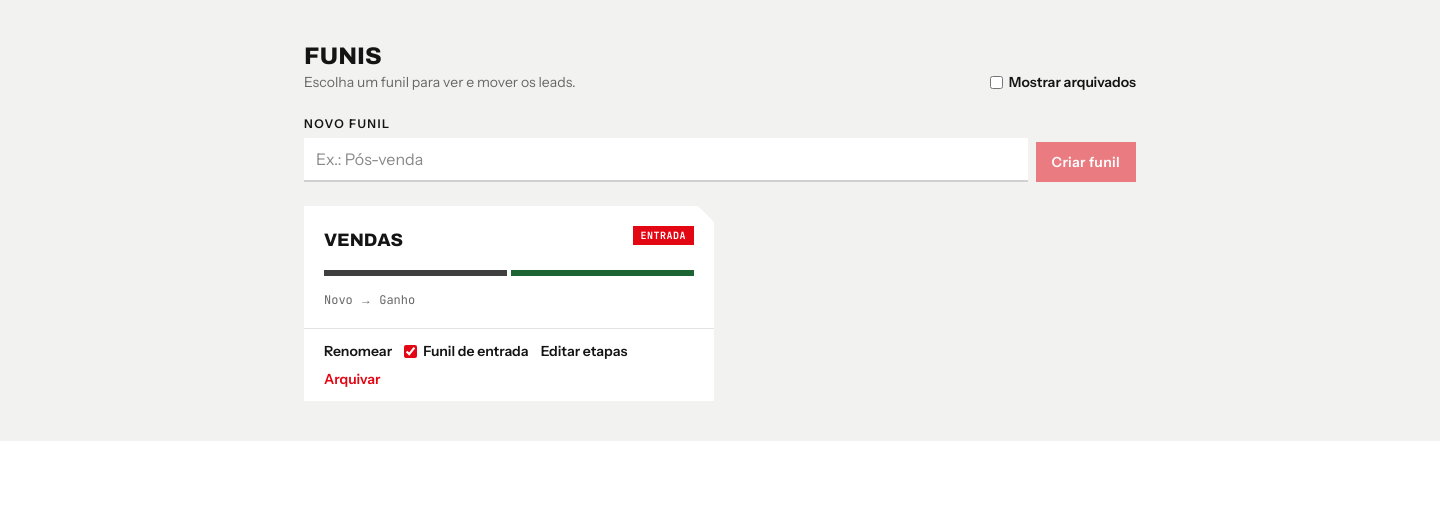
Test: Funis page › lets an admin create a pipeline and see a name conflict
This screenshot has width=1440, height=518.
Type "vendas" into the field labelled "Novo funil".
click(666, 160); type("vendas")  # box [304,138,1028,182]
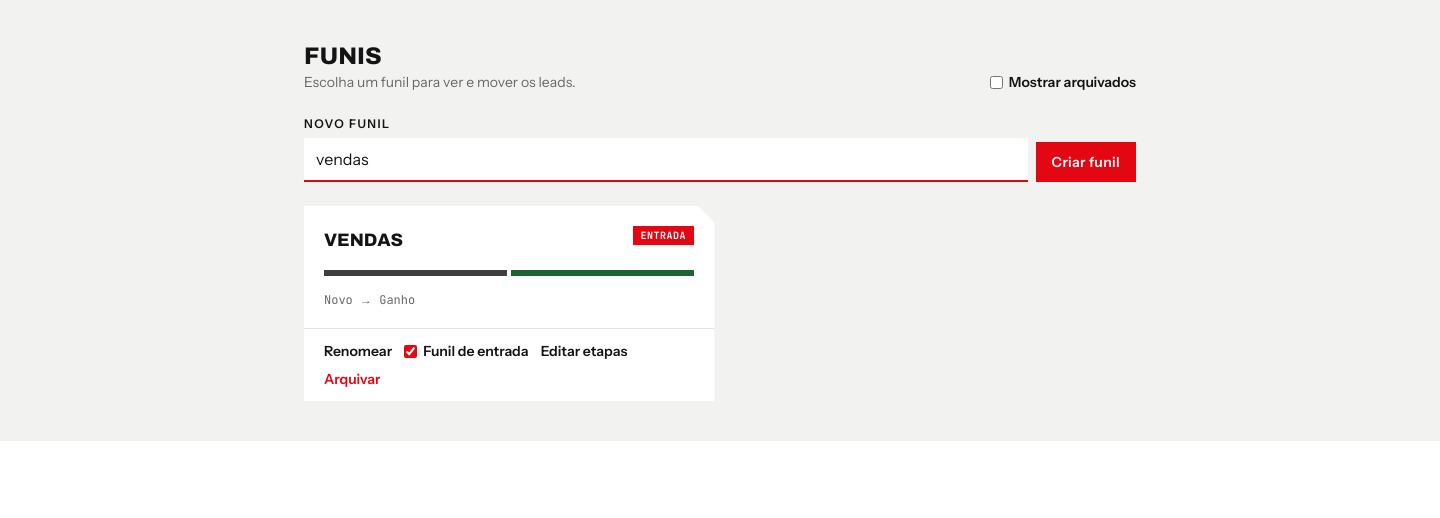
Click the button "Criar funil".
click(1086, 162)  # box [1036,142,1136,182]
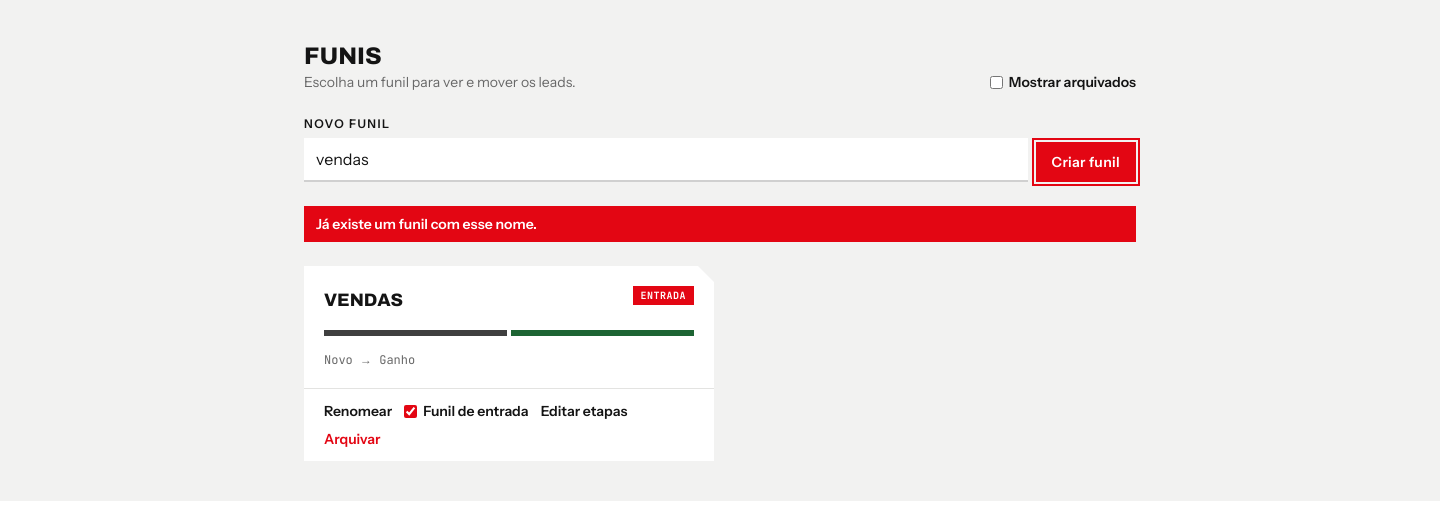
Result: the message reads "Já existe um funil com esse nome." at [316,215,537,233]
